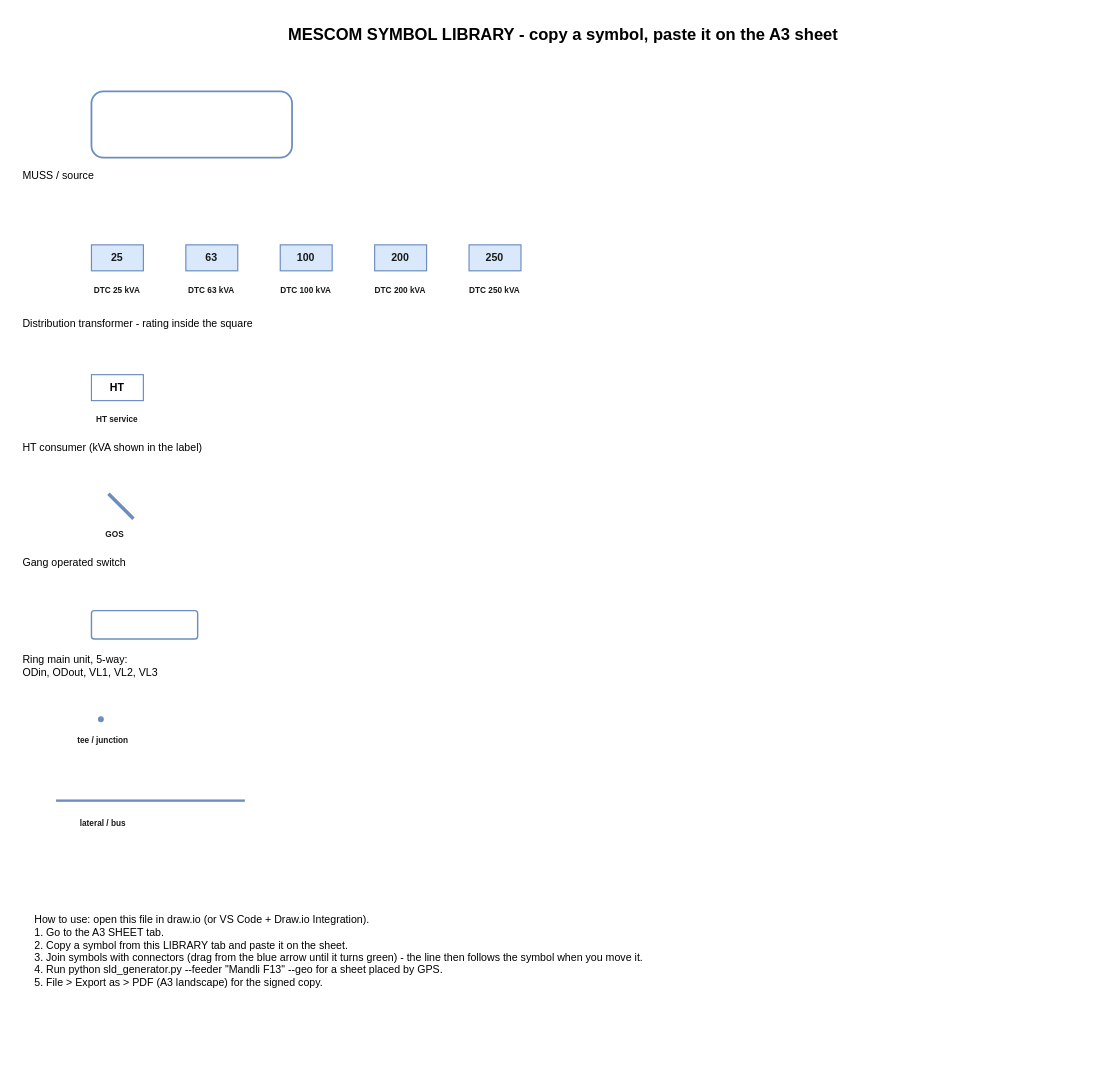
The diagram is 1114 pixels wide and 1090 high, and some of its shapes have lost their labels. The box of each missing label's shape, as (x1, y1, x2, y2) in pixels:
110/11 KV MANDLI: (90, 90, 292, 158)
RMU: (90, 609, 198, 639)
